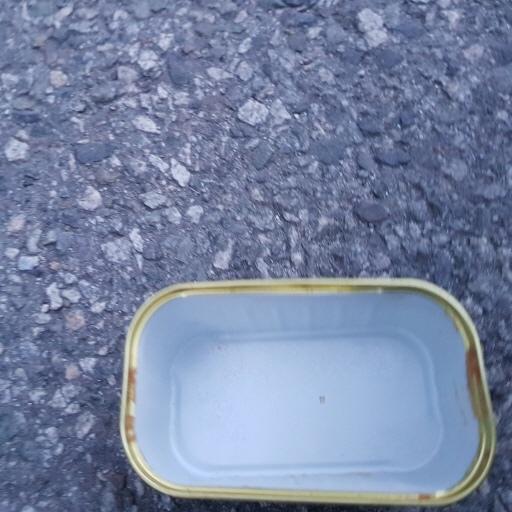Metal_2: (118, 276, 499, 512)
